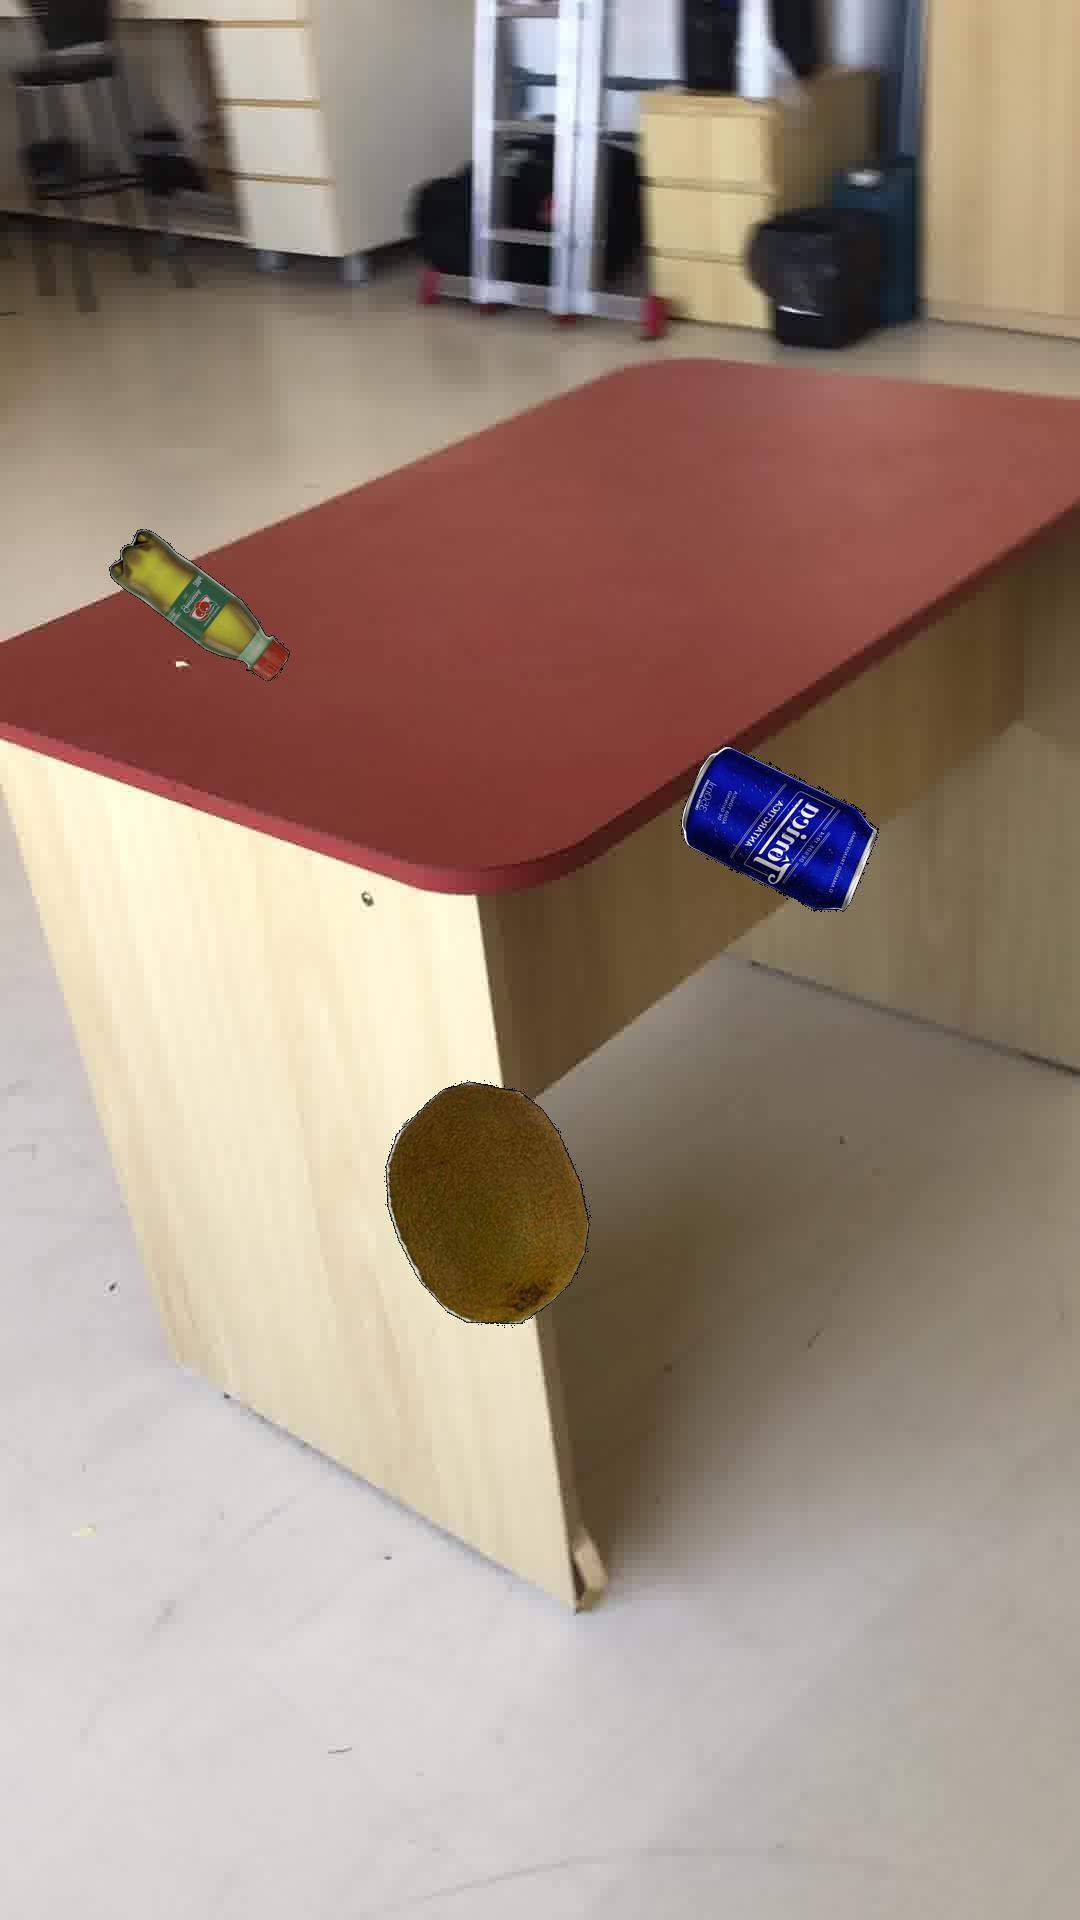guarana: (108, 527, 289, 679)
kiwi: (384, 1080, 588, 1323)
tonic: (679, 744, 877, 910)
